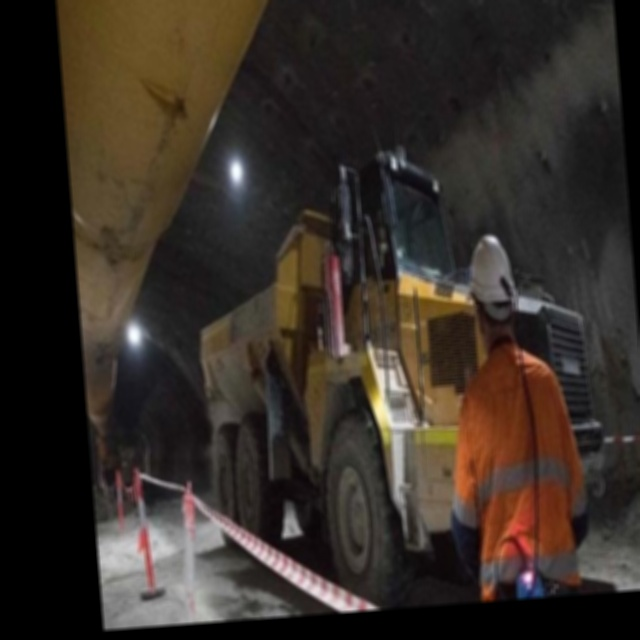Con_Casco: (469, 233, 519, 344)
Con_Chaleco: (465, 352, 574, 592)
